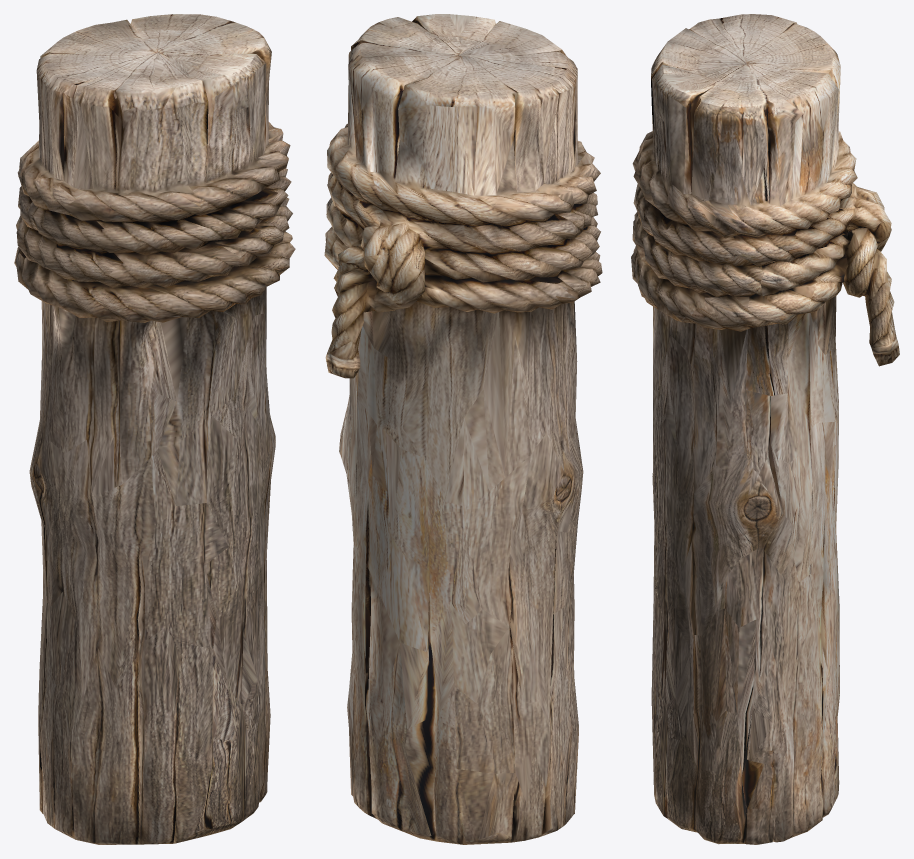
File: rope-post-v1.glb
The picture shows the model from 3 angles, left to right: view 1: azimuth 30°, elevation 25°; view 2: azimuth 150°, elevation 25°; view 3: azimuth 270°, elevation 25°; orthographic projection. The views are drawn at different scales.
Visible parts, largest first — view 1: tripo_node_06a01102-1958-4ab0-909e-93e502024907; view 2: tripo_node_06a01102-1958-4ab0-909e-93e502024907; view 3: tripo_node_06a01102-1958-4ab0-909e-93e502024907.
Boxes of the visible parts, x1=… form: tripo_node_06a01102-1958-4ab0-909e-93e502024907: x1=14, y1=14, x2=295, y2=844; tripo_node_06a01102-1958-4ab0-909e-93e502024907: x1=324, y1=14, x2=602, y2=844; tripo_node_06a01102-1958-4ab0-909e-93e502024907: x1=631, y1=14, x2=899, y2=844.
Size of the model in its own units: 0.3 by 0.8509 by 0.2802.
Materials: 1 (1 with a texture image).
